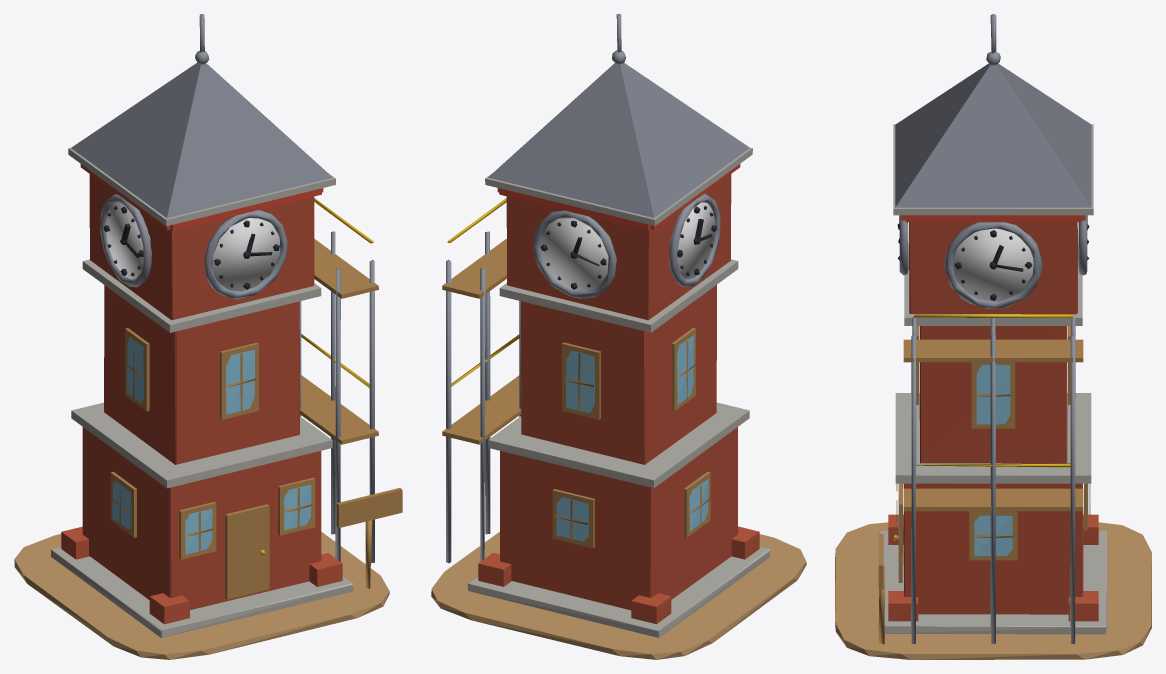
Rendered from clock-tower-lod1-3.714f4cab.glb.
The picture shows the model from 3 angles, left to right: view 1: azimuth 30°, elevation 25°; view 2: azimuth 150°, elevation 25°; view 3: azimuth 270°, elevation 25°; orthographic projection. The views are drawn at different scales.
Visible parts, largest first — view 1: ClockTower_Stage3__T_vcol; view 2: ClockTower_Stage3__T_vcol; view 3: ClockTower_Stage3__T_vcol.
Part boxes in pixels (x1,y1,x2,y2): ClockTower_Stage3__T_vcol: [14, 14, 402, 659]; ClockTower_Stage3__T_vcol: [431, 14, 806, 659]; ClockTower_Stage3__T_vcol: [835, 14, 1151, 659].
Bounding box in the file's own units: 4.96 × 9.62 × 4.78.
